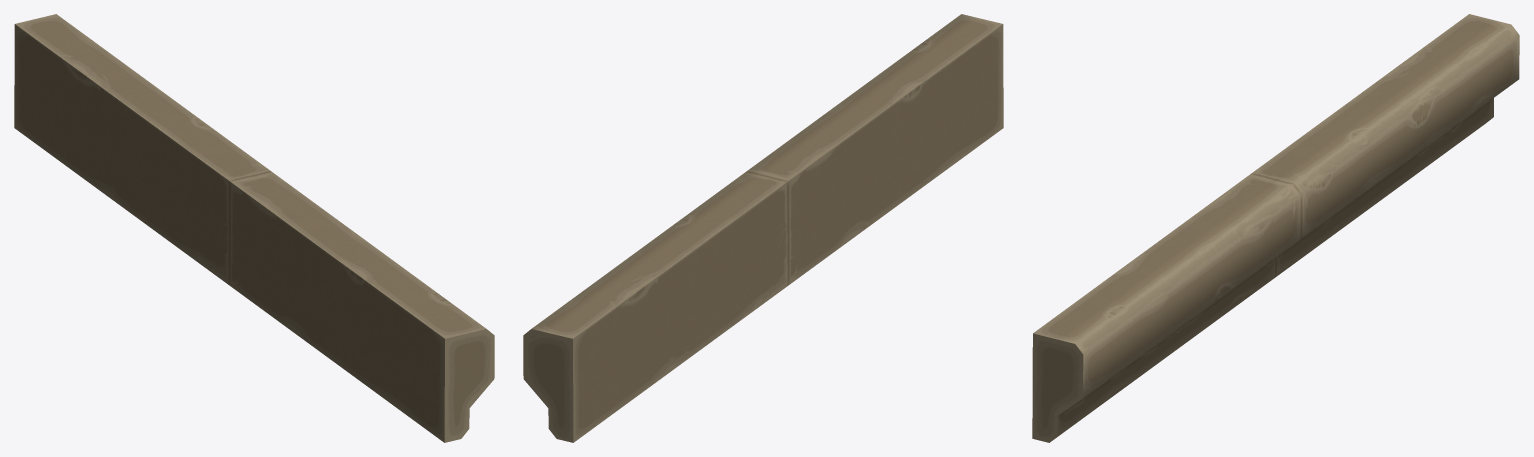
File: ARC0510060.fbx
The picture shows the model from 3 angles, left to right: view 1: azimuth 30°, elevation 25°; view 2: azimuth 150°, elevation 25°; view 3: azimuth 330°, elevation 25°; orthographic projection.
Parts seen in each view (by area): view 1: smARC0510060; view 2: smARC0510060; view 3: smARC0510060.
Part boxes in pixels (x1,y1,x2,y2): smARC0510060: (14,14,494,442); smARC0510060: (523,14,1003,442); smARC0510060: (1032,14,1519,442).
Size of the model in its own units: 20.18 by 40.03 by 300.
Materials: 1 (1 with a texture image).
